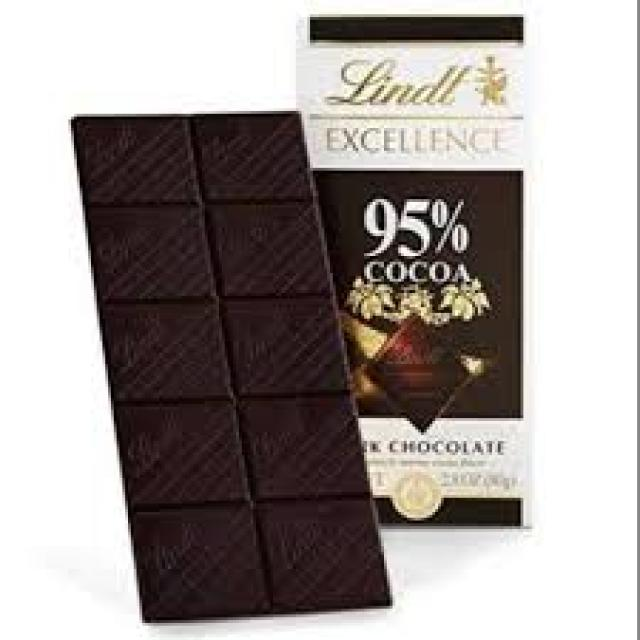Chocolate: (59, 110, 396, 622)
